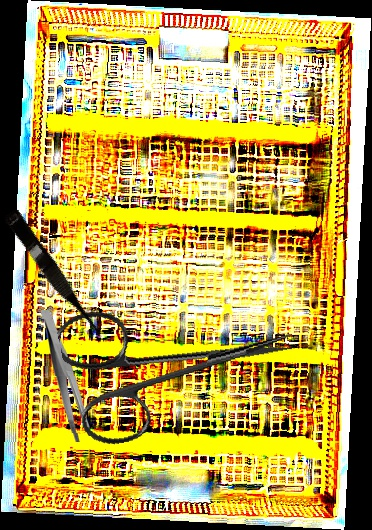Dressing Forceps: (40, 309, 91, 443)
Iris Scissors: (54, 272, 307, 452)
Micro Scissor: (0, 207, 108, 345)
